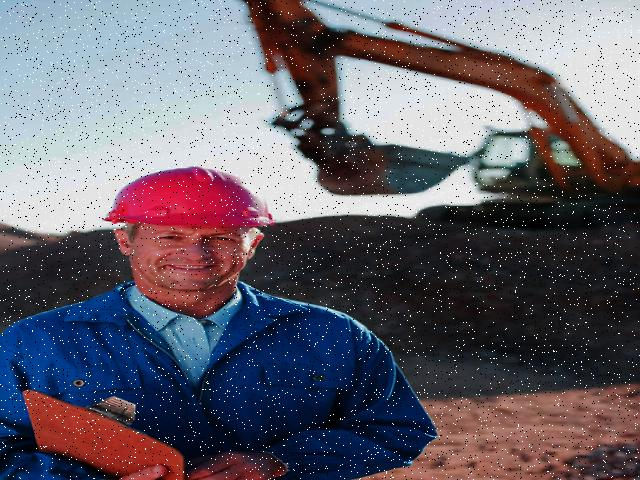Helmet: (98, 163, 282, 233)
